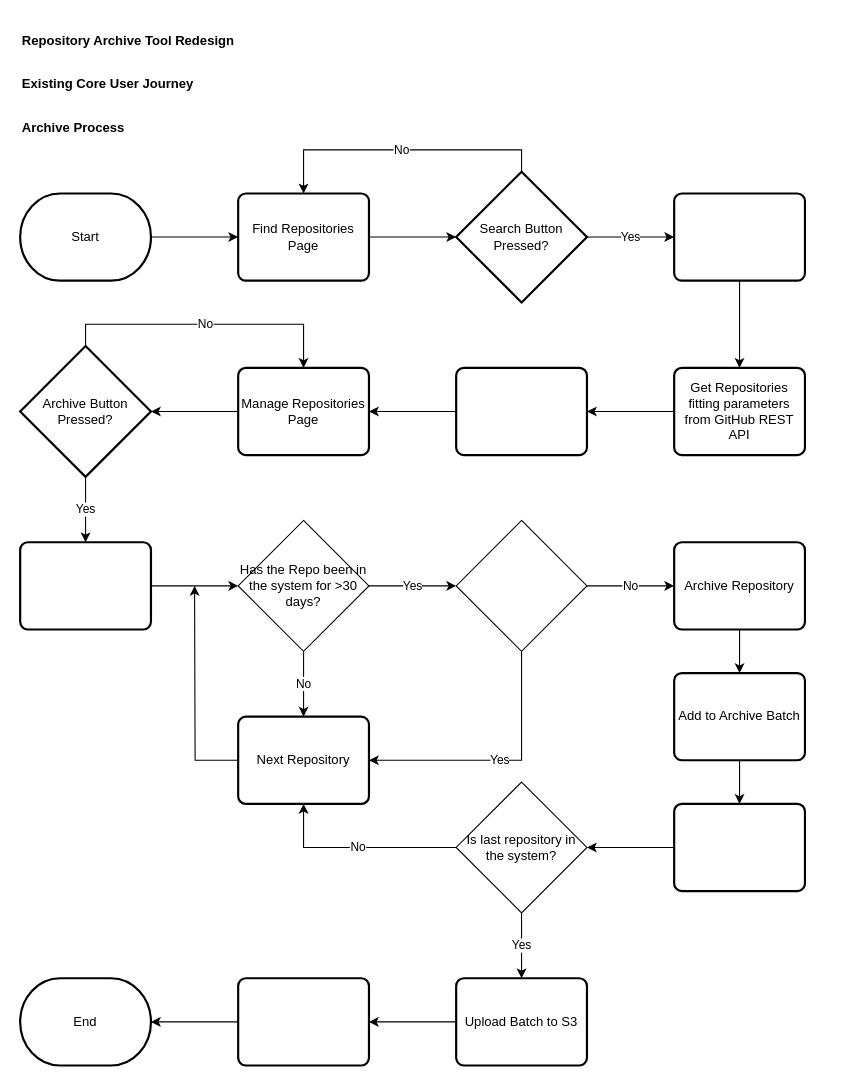
The diagram is 867 pixels wide and 1085 high, and some of its shapes have lost their labels. Each missing label, with the box of its shape:
Archive Batches Page: (237, 977, 370, 1066)
Collect Parameters from UI: (673, 192, 806, 281)
Is the Repo exempt from archiving?: (455, 519, 587, 651)
Load first repository in the system: (19, 541, 152, 630)
Remove from Repository List: (673, 802, 806, 892)
Store Repositories in S3: (455, 366, 588, 456)
